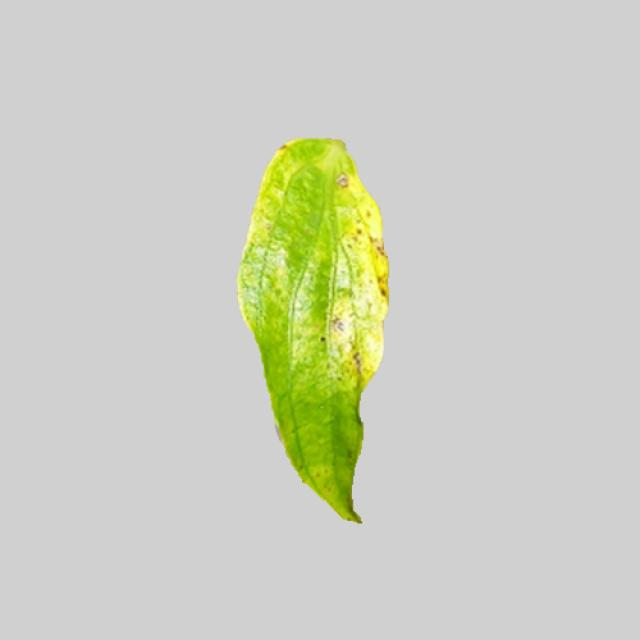yellow-mottle-virus: (215, 136, 393, 521)
